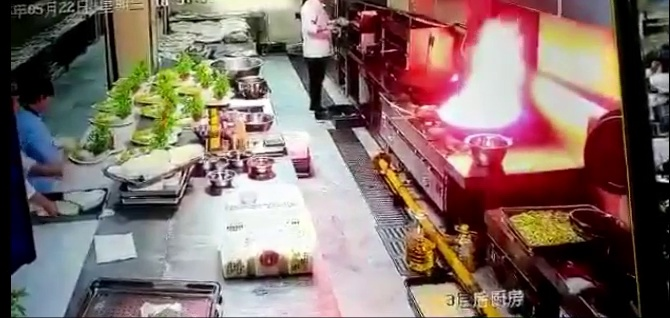fire: (450, 16, 533, 129)
